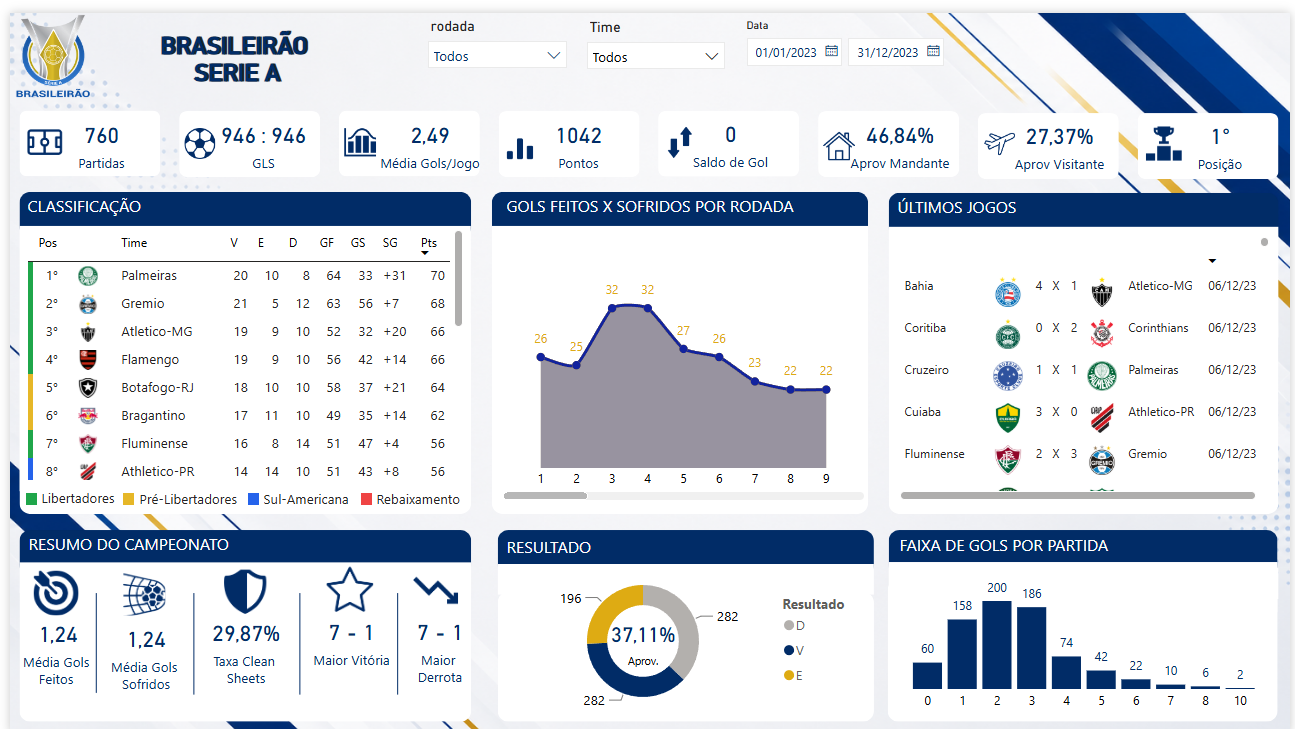

The dashboard page shown, as its layout file describes it:
{"tool":"powerbi","page":{"name":"brasileirao","canvas":[1280,720],"ordinal":0},"visuals":[{"type":"image","box":[0,0,1280,720],"z":0},{"type":"slicer","fields":{"Values":["dCalendário.Data"]},"box":[724.4,0.9,228.8,87.8],"z":1000},{"type":"slicer","fields":{"Values":["dTimeFiltro.Time"]},"box":[566.6,0.9,158,64.3],"z":2000},{"type":"slicer","fields":{"Values":["fBrasileirao.rodata"]},"box":[407.9,0,158.7,76.3],"z":3000},{"type":"areaChart","fields":{"Category":["fBrasileirao.rodata"],"Y":["Medidas.Gols Sofridos Filtro","Medidas.Gols Feitos Filtro"]},"box":[487.6,211.7,371.3,280.4],"z":4000},{"type":"tableEx","fields":{"Values":["fBrasileirao.mandante","dTimeMandante.logo","fBrasileirao.mandante_Placar","fBrasileirao.X","fBrasileirao.visitante_Placar","dTimeVisitante.logo","fBrasileirao.visitante","fBrasileirao.data"]},"box":[884.4,219.4,380.1,272.6],"z":5000},{"type":"card","fields":{"Values":["Medidas.Partidas Filtro"]},"box":[21,97,141,66],"z":6000},{"type":"card","fields":{"Values":["Medidas.Pontos Filtro"]},"box":[498,97,141,67],"z":7000},{"type":"card","fields":{"Values":["Medidas.Saldo de Gol Filtro"]},"box":[650,96,141,67],"z":8000},{"type":"tableEx","fields":{"Values":["Medidas.dumb","Medidas.POS","dTime.logo","dTime.time","Medidas.Vitórias","Medidas.Empates","Medidas.Derrotas","Medidas.Gols Feitos","Medidas.Gols Sofridos","Medidas.Saldo de Gol Formatado","Medidas.Total pontos"]},"box":[11.5,211.9,446.9,259.8],"z":9000},{"type":"card","fields":{"Values":["Medidas.Posição Filtro Format"]},"box":[1140,98,140,67],"z":10000},{"type":"card","fields":{"Values":["Medidas.Aproveitamento Visitante Filtro"]},"box":[979,98,141,66],"z":11000},{"type":"card","fields":{"Values":["Medidas.GLS Filtro"]},"box":[183,97,141,66],"z":12000},{"type":"card","fields":{"Values":["Medidas.Média Gols por Jogo Filtro"]},"box":[364,97,112,67],"z":13000},{"type":"donutChart","fields":{"Category":["dResultado.Resultado"],"Y":["Medidas.Total Resultado Filtro"]},"box":[487.6,549.7,371.3,156.3],"z":14000},{"type":"card","fields":{"Values":["Medidas.Aproveitamento Filtro"]},"box":[592,593,82,73],"z":15000},{"type":"card","fields":{"Values":["Medidas.Média Gols Feitos Filtro"]},"box":[4,547,88,164],"z":16000},{"type":"card","fields":{"Values":["Medidas.Média Gols Sofridos Filtro"]},"box":[87.5,549.3,96.4,170.7],"z":17000},{"type":"card","fields":{"Values":["Medidas.Taxa Clean Sheets Filtro"]},"box":[191.7,549.7,88,156.3],"z":18000},{"type":"columnChart","fields":{"Category":["fBrasileirao.Faixa_gols"],"Y":["Medidas.Partidas Filtro"]},"box":[884.4,549.7,380.1,156.3],"z":19000},{"type":"card","fields":{"Values":["Medidas.Maior Vitória Filtro"]},"box":[297,546.4,88.7,162.9],"z":20000},{"type":"card","fields":{"Values":["Medidas.Maior Derrota Filtro"]},"box":[385.7,546.4,88,162.9],"z":21000},{"type":"card","fields":{"Values":["Medidas.Aproveitamento Mandante Filtro"]},"box":[827,97,126,67],"z":22000},{"type":"textbox","box":[13.3,177.3,175.1,42.1],"z":23000},{"type":"textbox","box":[492.1,177.3,317,42.1],"z":24000},{"type":"textbox","box":[883.3,178.4,233.8,42.1],"z":25000},{"type":"textbox","box":[885.5,516.4,233.8,42.1],"z":26000},{"type":"textbox","box":[492.1,517.5,233.8,42.1],"z":27000},{"type":"textbox","box":[14.4,515.3,233.8,42.1],"z":28000},{"type":"textbox","box":[27.1,471.2,91.3,28.4],"z":29000},{"type":"shape","box":[16.4,479.9,10.6,12.6],"z":30000},{"type":"shape","box":[113.2,479.9,10.6,12.6],"z":31000},{"type":"textbox","box":[124.8,472.1,123.8,28.1],"z":32000},{"type":"shape","box":[238,479.9,10.6,12.6],"z":33000},{"type":"textbox","box":[248.6,472.1,108.4,28.1],"z":34000},{"type":"shape","box":[351.2,479.9,10.6,12.6],"z":35000},{"type":"textbox","box":[361.8,472.1,102.6,28.1],"z":36000},{"type":"card","fields":{"Values":["Medidas.Nome Time"]},"box":[126,0,199,89],"z":37000},{"type":"card","fields":{"Values":["Medidas.Nome Time"]},"box":[124,0,199,89],"z":38000}]}

Visuals, with their boxes in screenshot pixels (x1, y1, x2, y2), scaled from the page's 1280x720 canvas onto the 1295x729 screenshot:
image: (left=0, top=0, right=1294, bottom=728)
slicer - dCalendário.Data: (left=733, top=1, right=964, bottom=90)
slicer - dTimeFiltro.Time: (left=573, top=1, right=733, bottom=66)
slicer - fBrasileirao.rodata: (left=413, top=0, right=573, bottom=77)
areaChart - fBrasileirao.rodata x Medidas.Gols Sofridos Filtro: (left=493, top=214, right=869, bottom=498)
tableEx - fBrasileirao.mandante x dTimeMandante.logo: (left=895, top=222, right=1279, bottom=498)
card - Medidas.Partidas Filtro: (left=21, top=98, right=164, bottom=165)
card - Medidas.Pontos Filtro: (left=504, top=98, right=646, bottom=166)
card - Medidas.Saldo de Gol Filtro: (left=658, top=97, right=800, bottom=165)
tableEx - Medidas.dumb x Medidas.POS: (left=12, top=215, right=464, bottom=478)
card - Medidas.Posição Filtro Format: (left=1153, top=99, right=1294, bottom=167)
card - Medidas.Aproveitamento Visitante Filtro: (left=990, top=99, right=1133, bottom=166)
card - Medidas.GLS Filtro: (left=185, top=98, right=328, bottom=165)
card - Medidas.Média Gols por Jogo Filtro: (left=368, top=98, right=482, bottom=166)
donutChart - dResultado.Resultado x Medidas.Total Resultado Filtro: (left=493, top=557, right=869, bottom=715)
card - Medidas.Aproveitamento Filtro: (left=599, top=600, right=682, bottom=674)
card - Medidas.Média Gols Feitos Filtro: (left=4, top=554, right=93, bottom=720)
card - Medidas.Média Gols Sofridos Filtro: (left=89, top=556, right=186, bottom=728)
card - Medidas.Taxa Clean Sheets Filtro: (left=194, top=557, right=283, bottom=715)
columnChart - fBrasileirao.Faixa_gols x Medidas.Partidas Filtro: (left=895, top=557, right=1279, bottom=715)
card - Medidas.Maior Vitória Filtro: (left=300, top=553, right=390, bottom=718)
card - Medidas.Maior Derrota Filtro: (left=390, top=553, right=479, bottom=718)
card - Medidas.Aproveitamento Mandante Filtro: (left=837, top=98, right=964, bottom=166)
textbox: (left=13, top=180, right=191, bottom=222)
textbox: (left=498, top=180, right=819, bottom=222)
textbox: (left=894, top=181, right=1130, bottom=223)
textbox: (left=896, top=523, right=1132, bottom=565)
textbox: (left=498, top=524, right=734, bottom=567)
textbox: (left=15, top=522, right=251, bottom=564)
textbox: (left=27, top=477, right=120, bottom=506)
shape: (left=17, top=486, right=27, bottom=499)
shape: (left=115, top=486, right=125, bottom=499)
textbox: (left=126, top=478, right=252, bottom=506)
shape: (left=241, top=486, right=252, bottom=499)
textbox: (left=252, top=478, right=361, bottom=506)
shape: (left=355, top=486, right=366, bottom=499)
textbox: (left=366, top=478, right=470, bottom=506)
card - Medidas.Nome Time: (left=127, top=0, right=329, bottom=90)
card - Medidas.Nome Time: (left=125, top=0, right=327, bottom=90)
